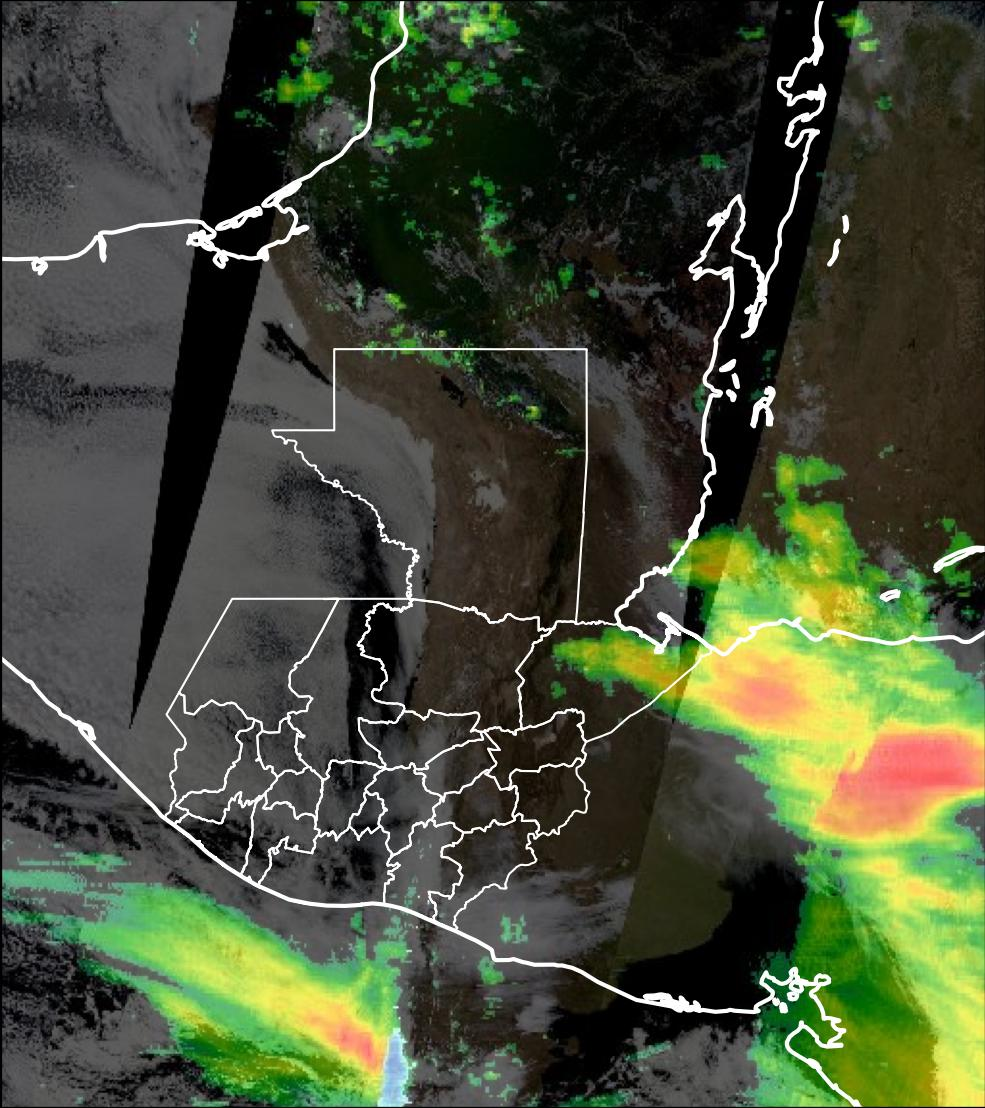precipitacion: (815, 726, 984, 863), (680, 623, 810, 744), (292, 978, 380, 1086)
